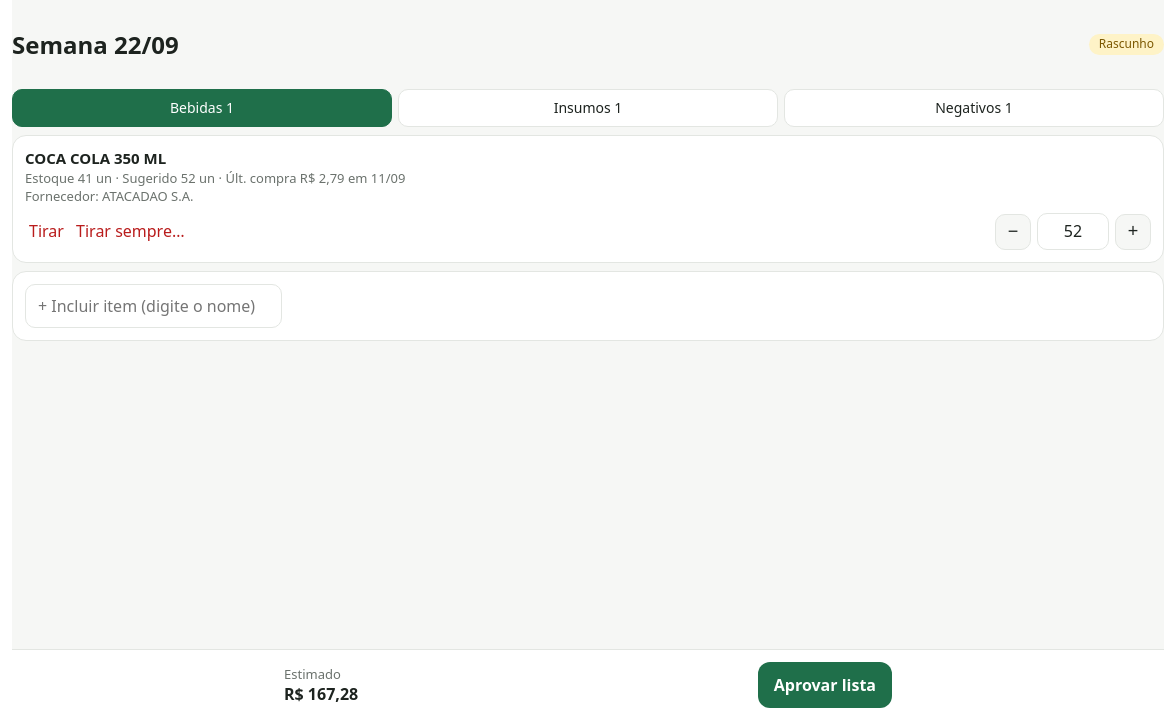
Test case: Revisão da lista › se gravar falhar, desfaz e mostra o erro
Click the button named "Mais" at point(1133, 232), box [1115,214,1151,250]
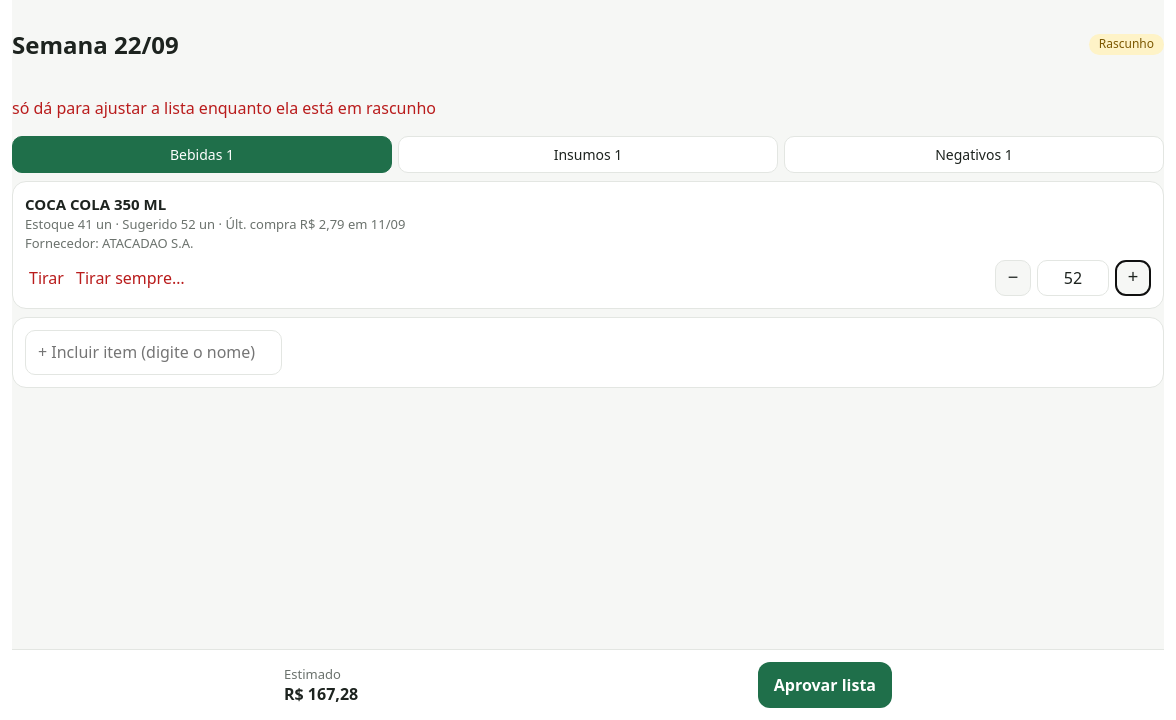
Expected: the 1st field holds "52", [1037,260,1109,296]
Expected: the text "só dá para ajustar a lista enquanto ela está em rascunho" is shown, [12,97,436,119]
